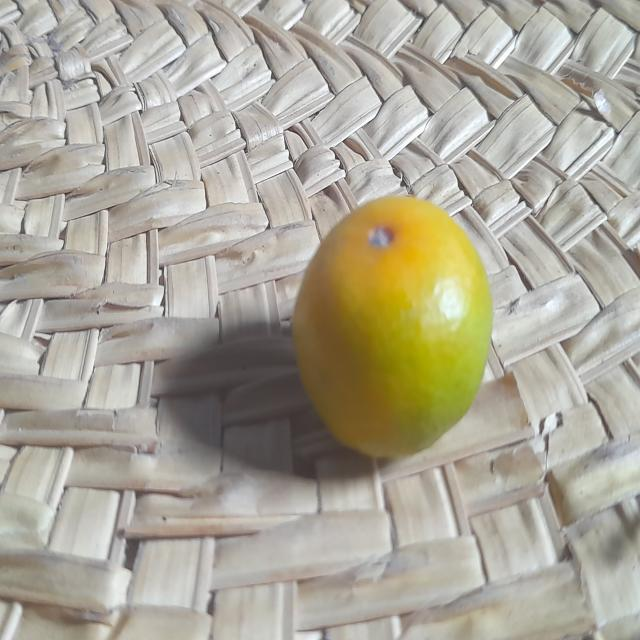greening: (292, 197, 495, 469)
